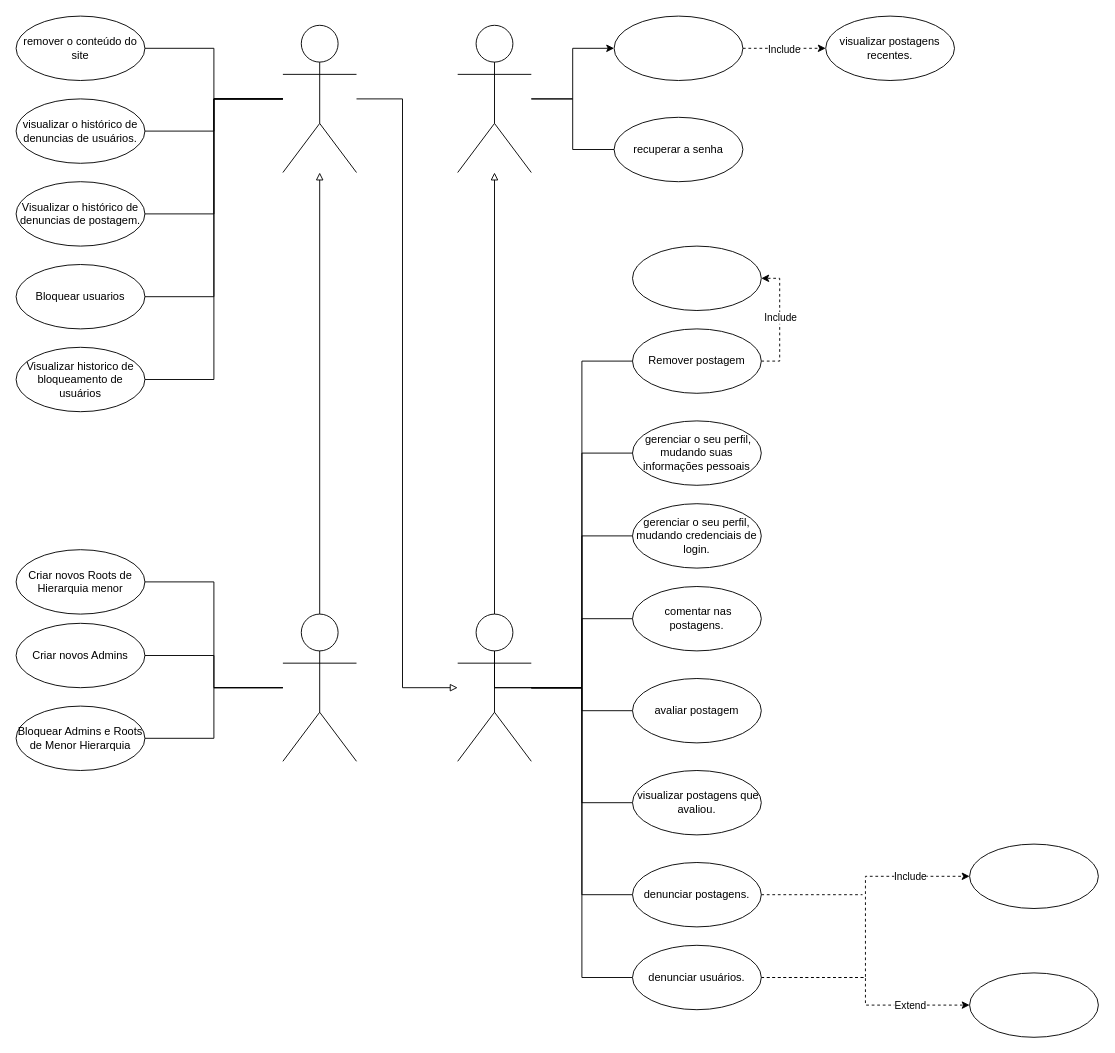
This 1115x1053 diagram has some shape labels left out. Each missing label, with the box of its shape:
acessar detalhes de uma postagem.: (613, 15, 743, 80)
Admin: (282, 24, 356, 172)
Descrever: (969, 972, 1098, 1037)
fazer postagem: (632, 245, 761, 310)
Root: (282, 613, 356, 761)
Selecionar Motivo: (969, 843, 1098, 908)
Usuario: (457, 24, 531, 172)
Usuario Autenticado: (457, 613, 531, 761)
